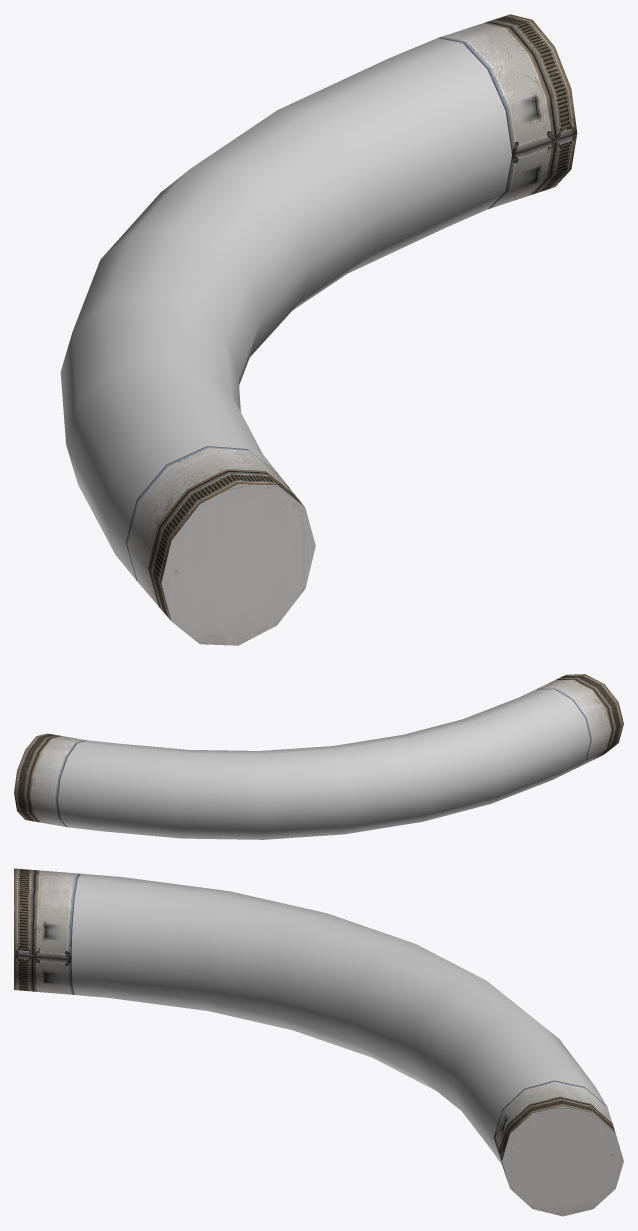
The model's file is scifi_pipe_medium_curve2_1.FBX.
The picture shows the model from 3 angles, top to bottom: view 1: azimuth 30°, elevation 25°; view 2: azimuth 150°, elevation 25°; view 3: azimuth 270°, elevation 25°; orthographic projection. The views are drawn at different scales.
Parts seen in each view (by area): view 1: Cylinder030; view 2: Cylinder030; view 3: Cylinder030.
Part boxes in pixels (left/top/right/bottom): Cylinder030: left=60, top=14, right=577, bottom=645; Cylinder030: left=14, top=674, right=623, bottom=839; Cylinder030: left=14, top=868, right=623, bottom=1216.
Bounding box in the file's own units: 254 × 50.8 × 254.
